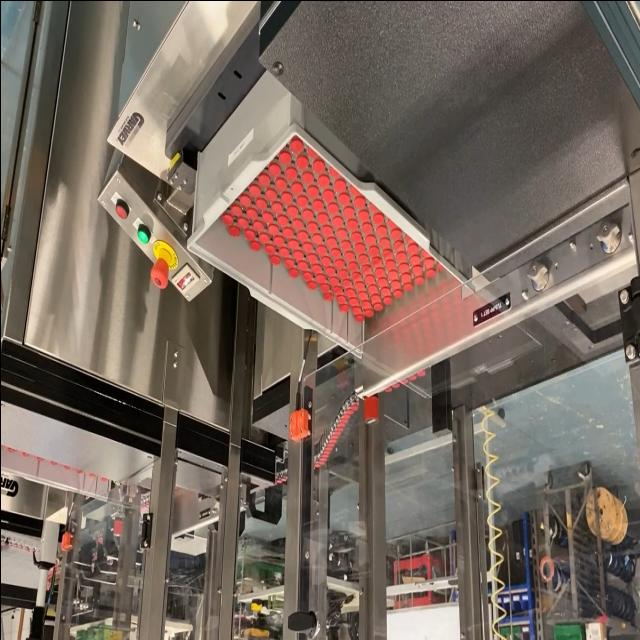vial: (250, 220, 264, 232), (247, 184, 259, 197), (254, 197, 266, 210), (236, 217, 248, 229), (238, 194, 250, 206), (304, 146, 316, 158), (352, 197, 364, 209), (222, 213, 234, 224), (372, 225, 384, 236), (286, 203, 296, 216), (408, 264, 421, 274), (243, 228, 253, 240), (262, 244, 274, 254), (230, 206, 242, 216), (292, 252, 304, 262), (286, 240, 298, 250), (276, 152, 288, 162), (289, 181, 301, 191), (296, 156, 306, 168), (370, 212, 382, 222), (354, 210, 366, 220), (376, 238, 388, 248), (280, 229, 294, 237), (267, 223, 277, 234), (321, 225, 332, 235), (349, 231, 360, 241), (360, 221, 371, 231), (291, 138, 300, 150), (249, 240, 259, 250), (315, 274, 325, 284), (277, 246, 287, 256), (272, 236, 282, 246), (246, 210, 256, 220), (261, 212, 271, 222), (264, 189, 274, 199), (268, 164, 278, 174), (274, 178, 284, 188), (281, 193, 291, 203), (292, 220, 302, 230), (296, 198, 306, 208), (316, 212, 326, 222), (312, 160, 322, 170), (318, 175, 328, 185), (322, 190, 332, 200), (354, 243, 364, 253), (365, 233, 375, 243), (368, 248, 378, 258), (376, 276, 386, 286), (277, 217, 289, 225), (284, 169, 296, 177), (302, 208, 310, 220), (334, 182, 346, 190), (356, 256, 368, 264), (269, 253, 279, 262), (318, 284, 328, 293), (258, 174, 268, 183), (337, 270, 347, 279), (330, 248, 339, 258), (307, 187, 317, 196), (302, 173, 311, 183), (374, 267, 384, 276), (393, 242, 404, 250), (422, 268, 433, 276), (229, 227, 238, 236), (333, 259, 342, 268), (288, 270, 298, 278), (306, 282, 316, 290), (296, 262, 306, 270), (258, 234, 268, 242), (271, 204, 281, 212), (310, 264, 320, 272), (316, 246, 326, 254), (320, 258, 330, 266), (329, 276, 337, 286), (338, 302, 348, 310), (348, 298, 358, 306), (344, 289, 354, 297), (312, 202, 322, 210), (336, 228, 344, 238), (339, 241, 349, 249), (344, 250, 352, 260), (347, 263, 357, 271), (366, 286, 376, 294), (390, 230, 400, 238), (368, 201, 376, 211), (350, 185, 358, 195), (380, 250, 390, 258), (370, 259, 380, 267), (392, 290, 402, 298), (387, 270, 397, 278), (394, 252, 404, 260), (302, 272, 311, 280), (326, 238, 335, 246), (328, 167, 337, 175), (344, 207, 352, 216), (381, 286, 389, 295), (409, 254, 418, 262), (306, 255, 316, 262), (332, 218, 342, 225), (338, 195, 348, 202), (407, 245, 417, 252), (284, 259, 292, 267), (298, 232, 306, 240), (302, 242, 310, 250), (323, 293, 331, 301), (308, 224, 316, 232), (312, 234, 320, 242), (324, 268, 332, 276), (333, 286, 341, 294), (336, 294, 344, 302), (354, 314, 362, 322), (342, 280, 350, 288), (328, 204, 336, 212), (358, 292, 366, 300), (348, 220, 356, 228), (364, 274, 372, 282), (372, 304, 380, 312), (435, 263, 443, 271), (404, 234, 412, 242), (387, 220, 395, 228), (383, 296, 391, 304), (385, 260, 393, 268), (370, 295, 380, 301), (401, 284, 411, 290), (352, 307, 360, 314), (352, 271, 359, 279), (355, 282, 362, 290), (362, 266, 369, 274), (391, 280, 398, 288), (384, 385, 391, 393), (360, 299, 369, 305), (420, 249, 429, 255), (424, 261, 432, 267), (414, 276, 422, 282), (399, 264, 407, 270), (401, 376, 407, 384), (365, 310, 372, 316), (401, 274, 408, 280), (330, 433, 338, 438), (418, 368, 423, 375), (392, 381, 399, 386), (317, 460, 325, 464), (340, 414, 348, 418), (337, 422, 343, 427), (410, 374, 416, 378), (352, 404, 356, 410), (313, 464, 319, 468), (320, 456, 326, 460), (338, 419, 346, 422), (328, 442, 333, 446), (324, 451, 330, 454), (326, 446, 332, 449), (278, 478, 284, 481), (332, 428, 340, 430), (344, 411, 352, 413), (322, 454, 328, 456), (330, 439, 336, 441), (274, 480, 280, 482), (332, 433, 339, 434)
